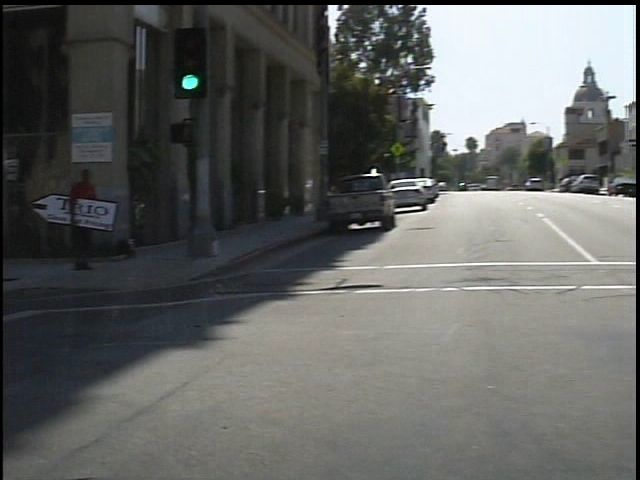person: (57, 159, 109, 280)
